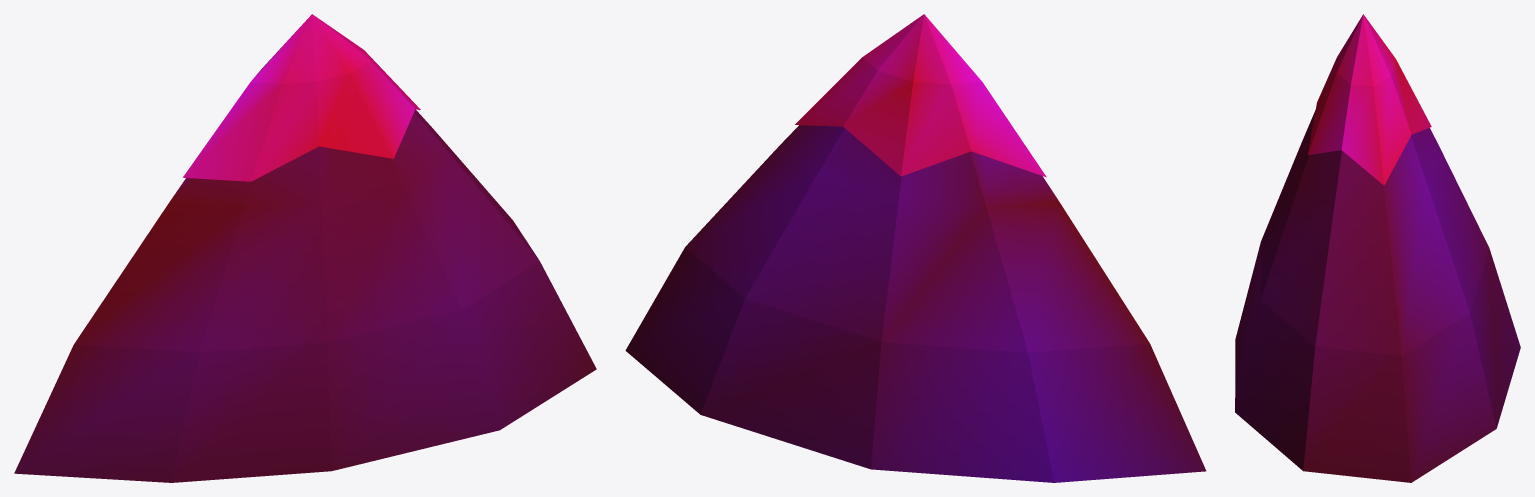
The model's file is Mountain_Back_01.fbx.
3 views of the same model, side by side, from view 1: azimuth 30°, elevation 25°; view 2: azimuth 150°, elevation 25°; view 3: azimuth 270°, elevation 25° (orthographic). The views are drawn at different scales.
Visible parts, largest first — view 1: Mountain_Back_01; view 2: Mountain_Back_01; view 3: Mountain_Back_01.
Boxes of the visible parts, box(x1,y1,x2,y2) form: Mountain_Back_01: box(14, 14, 596, 482); Mountain_Back_01: box(625, 14, 1206, 482); Mountain_Back_01: box(1235, 14, 1520, 482).
Size of the model in its own units: 49.21 by 32.25 by 23.98.
